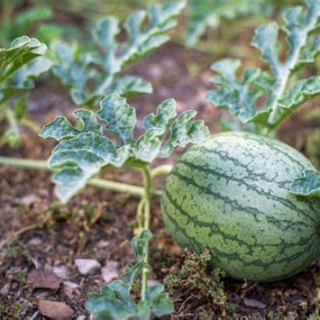dua_hau: (159, 130, 320, 281)
